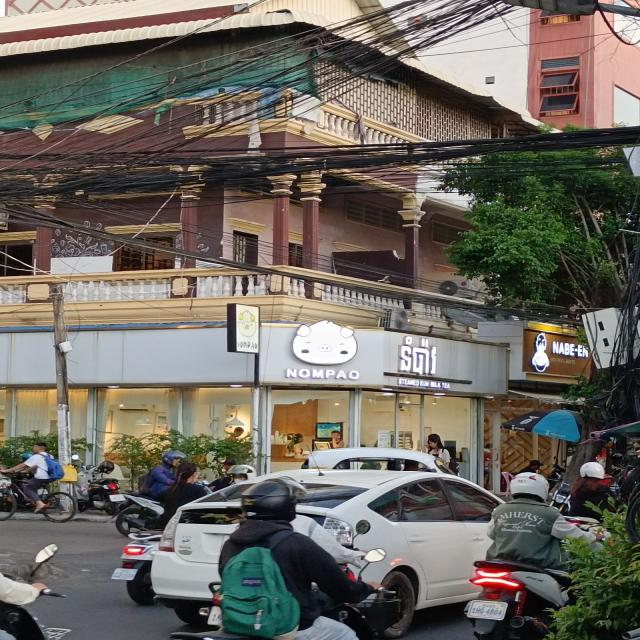Yolov11_80vkh: (391, 332, 445, 378)
